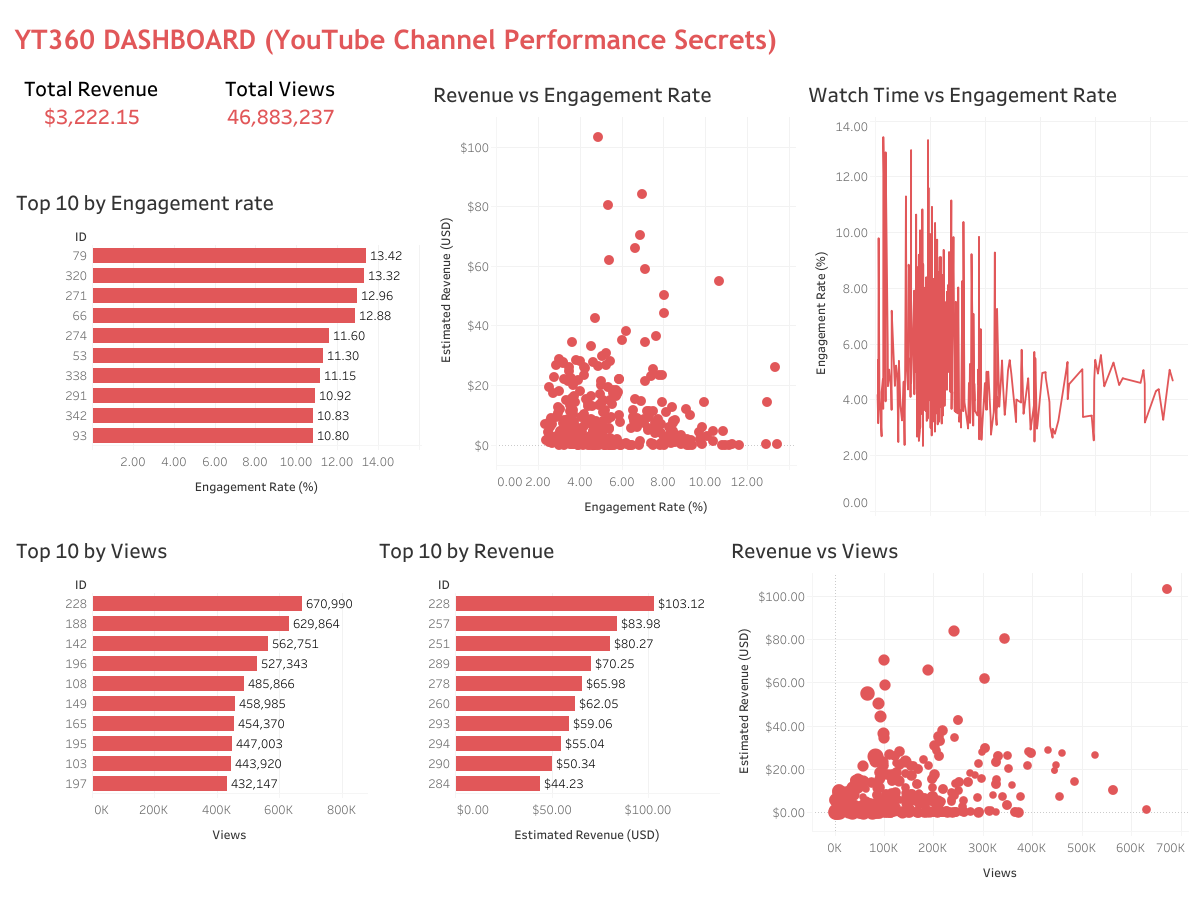

What the dashboard file says about the page in this screenshot:
{"tool":"tableau","page":{"name":"Dashboard","canvas":[1200,900],"ordinal":0},"visuals":[{"type":"text","box":[8,8,1184,62]},{"type":"worksheet","title":"KPI - Revenue","mark":"Automatic","box":[8,70,208.5,108]},{"type":"worksheet","title":"KPI - Views","mark":"Automatic","box":[216.5,70,208.5,108]},{"type":"worksheet","title":"Revenue vs Engagement Rate","mark":"Circle","rows":["Estimated Revenue (USD)"],"cols":["Engagement Rate (%)"],"box":[425,70,374.7,456]},{"type":"worksheet","title":"Watch Time vs Engagement Rate","mark":"Line","rows":["Engagement Rate (%)"],"cols":["Watch per Impression"],"box":[799.7,70,392.3,456]},{"type":"worksheet","title":"Top 10 by Engagement rate","mark":"Automatic","rows":["ID"],"cols":["Engagement Rate (%)"],"box":[8,178,417,348]},{"type":"worksheet","title":"Top 10 by Views","mark":"Automatic","rows":["ID"],"cols":["Views"],"box":[8,526,363.3,366]},{"type":"worksheet","title":"Top 10 by Revenue","mark":"Automatic","rows":["ID"],"cols":["Estimated Revenue (USD)"],"box":[371.4,526,351.4,366]},{"type":"worksheet","title":"Revenue vs Views","mark":"Circle","rows":["Estimated Revenue (USD)"],"cols":["Views"],"box":[722.7,526,469.3,366]}]}

Visuals, with their boxes in screenshot pixels (x1, y1, x2, y2), scaled from the page's 1200x900 canvas onto the 1199x899 screenshot:
text: region(8, 8, 1191, 70)
"KPI - Revenue" worksheet: region(8, 70, 216, 178)
"KPI - Views" worksheet: region(216, 70, 425, 178)
"Revenue vs Engagement Rate" worksheet (Circle marks): region(425, 70, 799, 525)
"Watch Time vs Engagement Rate" worksheet (Line marks): region(799, 70, 1191, 525)
"Top 10 by Engagement rate" worksheet: region(8, 178, 425, 525)
"Top 10 by Views" worksheet: region(8, 525, 371, 891)
"Top 10 by Revenue" worksheet: region(371, 525, 722, 891)
"Revenue vs Views" worksheet (Circle marks): region(722, 525, 1191, 891)
